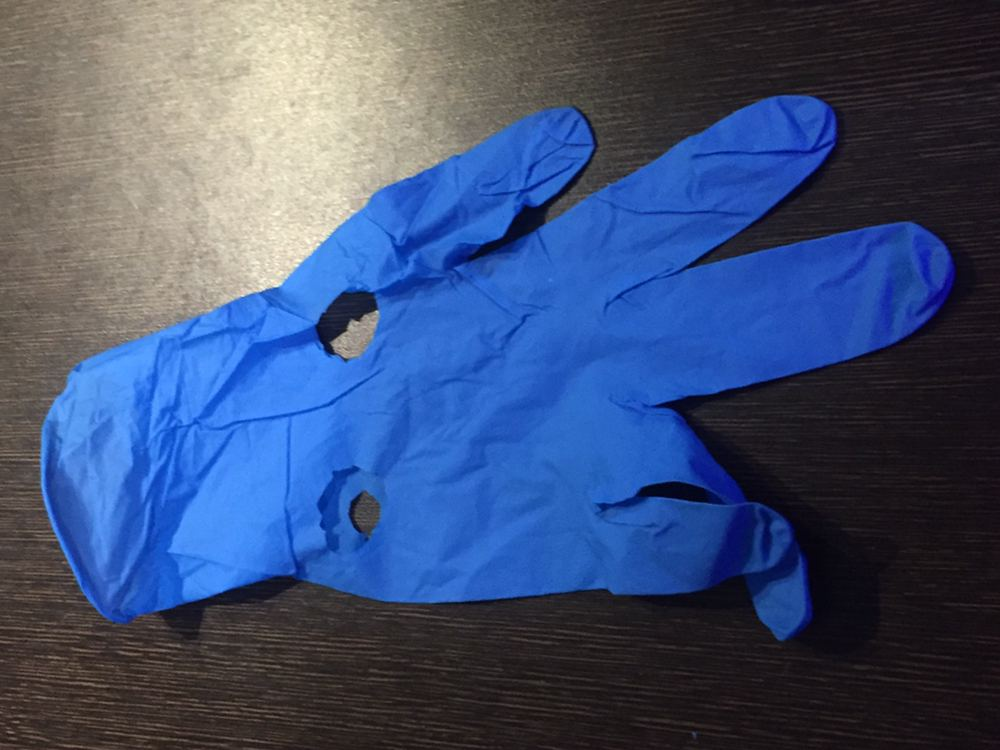defected: (33, 58, 959, 629)
